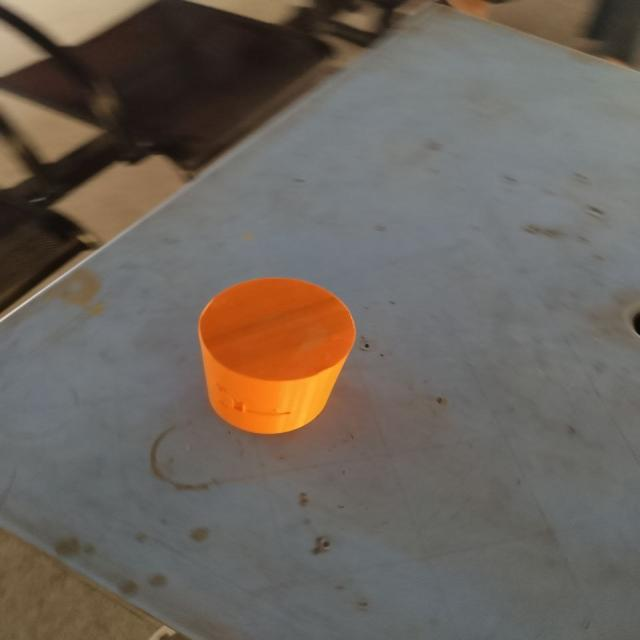Cylinder: (196, 275, 357, 435)
